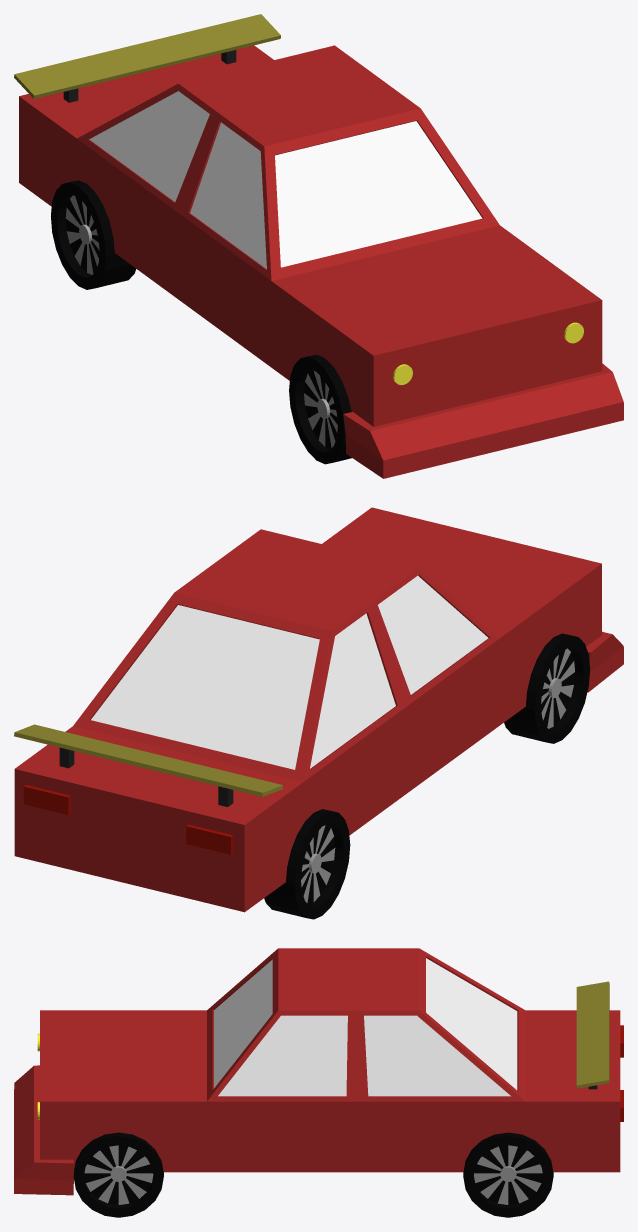
Rendered from driftCarV2.fbx.
3 renders of one model, top to bottom at view 1: azimuth 30°, elevation 25°; view 2: azimuth 150°, elevation 25°; view 3: azimuth 270°, elevation 25°, orthographic. The views are drawn at different scales.
Parts seen in each view (by area): view 1: Cube; view 2: Cube; view 3: Cube.
Part boxes in pixels (left/top/right/bottom): Cube: left=14, top=14, right=623, bottom=478; Cube: left=14, top=507, right=623, bottom=919; Cube: left=14, top=948, right=623, bottom=1217.
Size of the model in its own units: 2.67 by 2.37 by 6.9.
